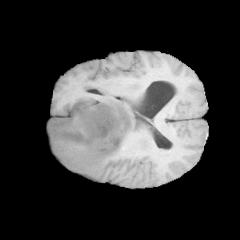glioma: (47, 95, 136, 178)
